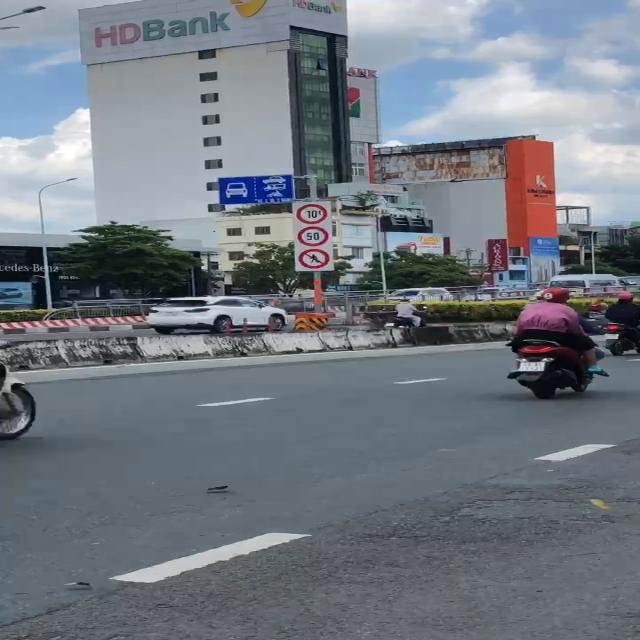Bien bao cam nguoi di bo: (294, 247, 332, 270)
Bien bao toc do toi da cho phep: (294, 225, 332, 247)
